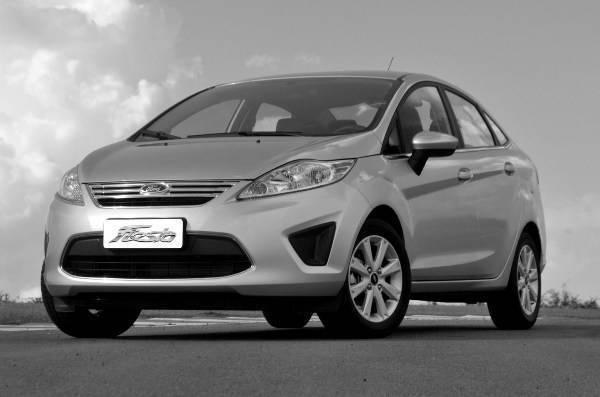car: (42, 70, 556, 338)
